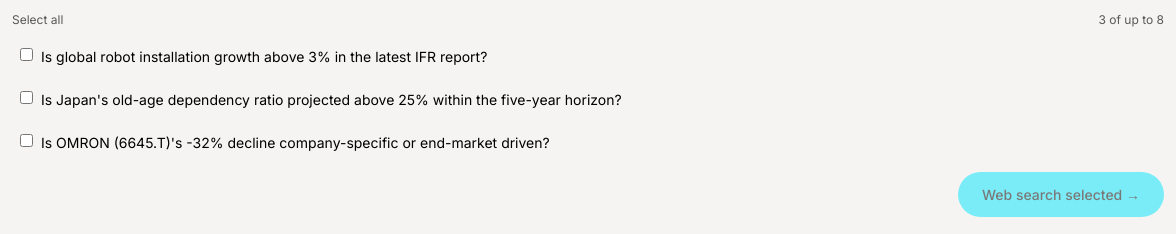
it: <OpenQuestionsResolver> › disables the web-search button until at least one question is selected
The width and height of the screenshot is (1176, 234).
Expected: the button "Web search selected →" is disabled, top-left (958, 172), bottom-right (1164, 217)
Click the checkbox named "Select question 2 for web search" at point(26, 97), box top-left (20, 91), bottom-right (33, 104)
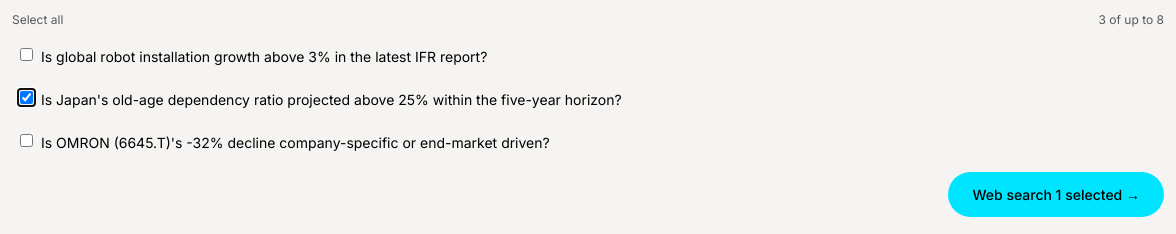
Result: the button "Web search 1 selected →" is enabled at top-left (948, 172), bottom-right (1164, 217)
Result: the button "Web search 1 selected →" is shown at top-left (948, 172), bottom-right (1164, 217)
